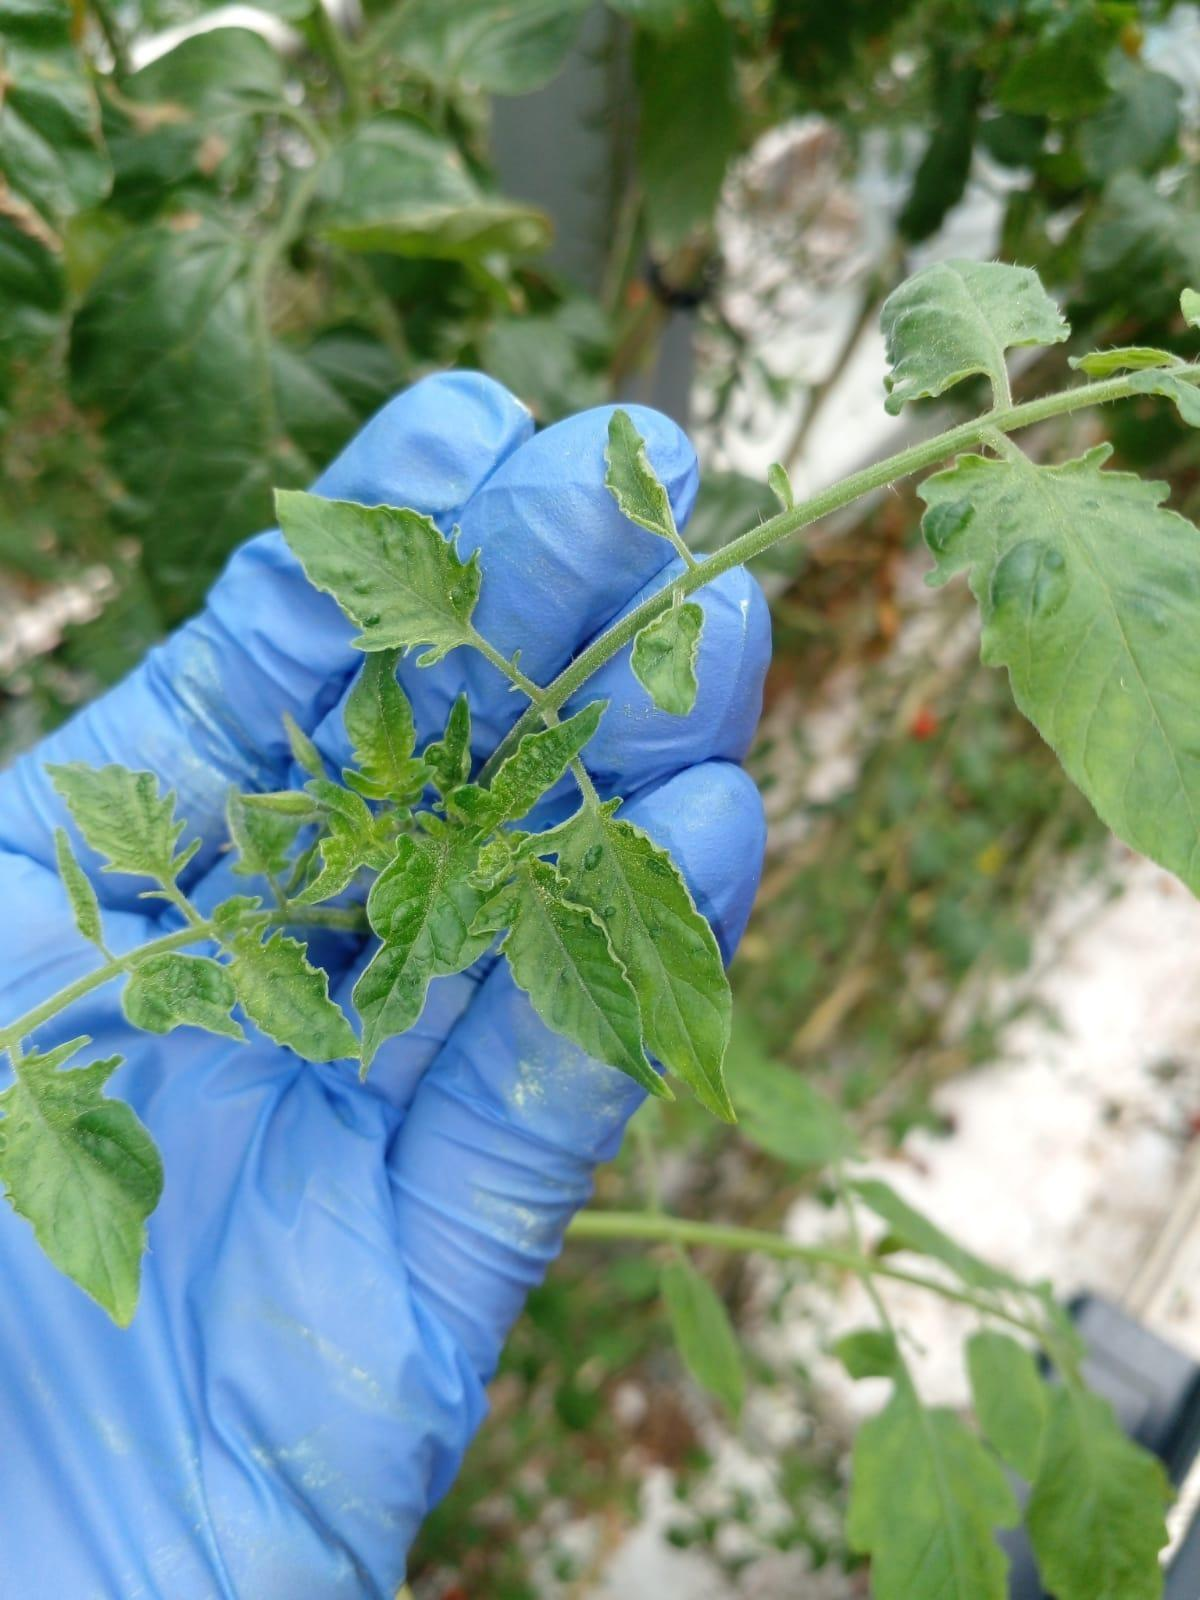Hoja rugoso: (919, 443, 1197, 889), (527, 795, 734, 1123), (0, 1038, 163, 1327), (475, 859, 669, 1097), (274, 489, 484, 665), (353, 828, 490, 1065), (881, 260, 1069, 412), (47, 762, 200, 902), (228, 929, 359, 1062), (490, 700, 606, 819), (606, 409, 693, 566), (344, 650, 431, 805), (291, 781, 393, 906), (122, 954, 243, 1039), (632, 603, 703, 716), (422, 694, 471, 794)
Pedunculo rugoso: (534, 375, 1150, 719), (687, 375, 1160, 592)
